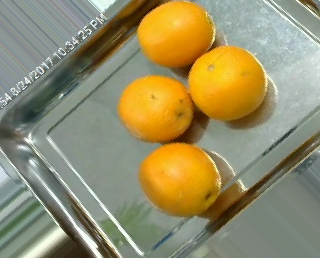Orange: (136, 141, 221, 217), (187, 44, 269, 120), (137, 1, 215, 68), (118, 75, 192, 142)
